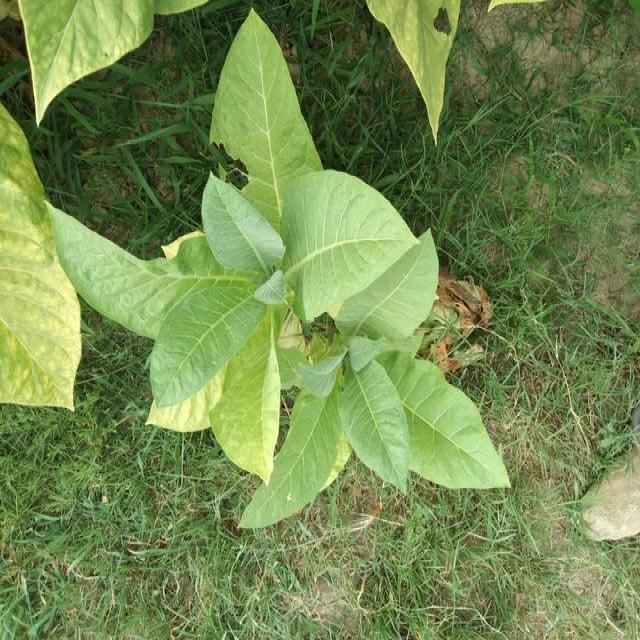crop: (117, 0, 531, 516)
